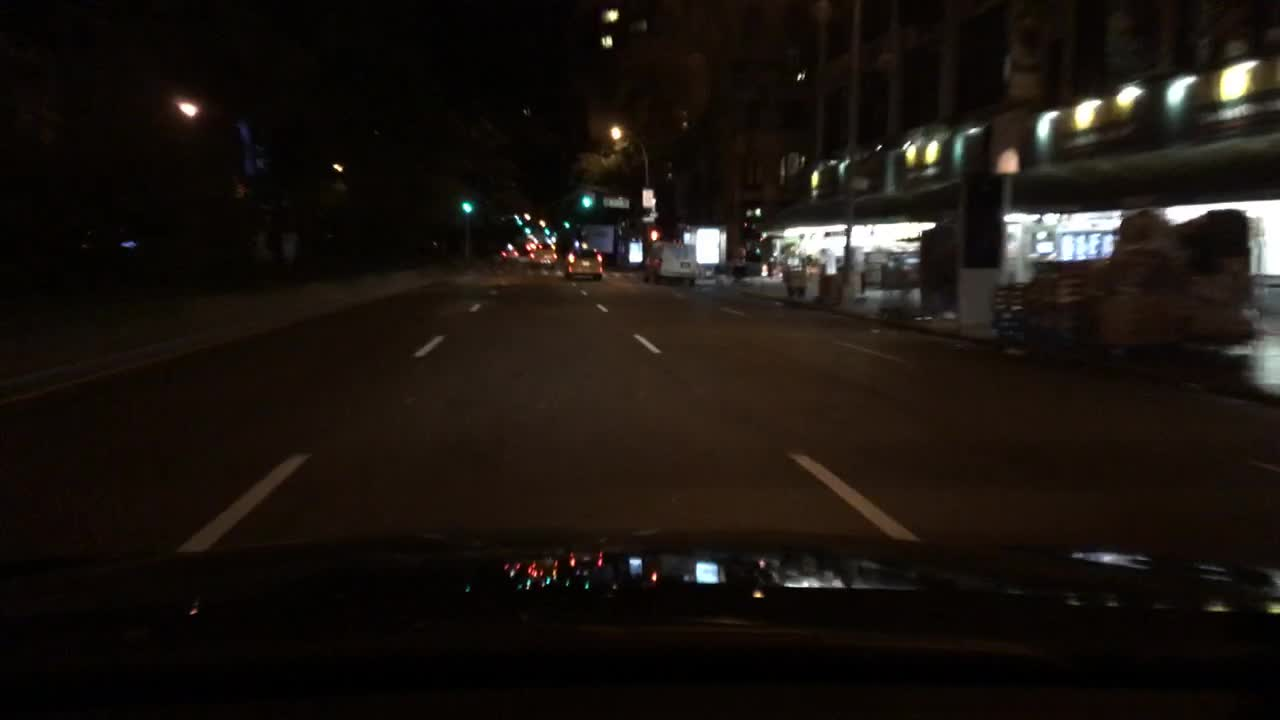car: (641, 240, 701, 287), (566, 248, 606, 283), (531, 243, 559, 269), (499, 246, 519, 262), (524, 241, 536, 256)
traffic light: (461, 197, 472, 213), (582, 190, 590, 206), (561, 217, 569, 231)
traffic sign: (641, 190, 657, 209), (603, 197, 627, 207)
